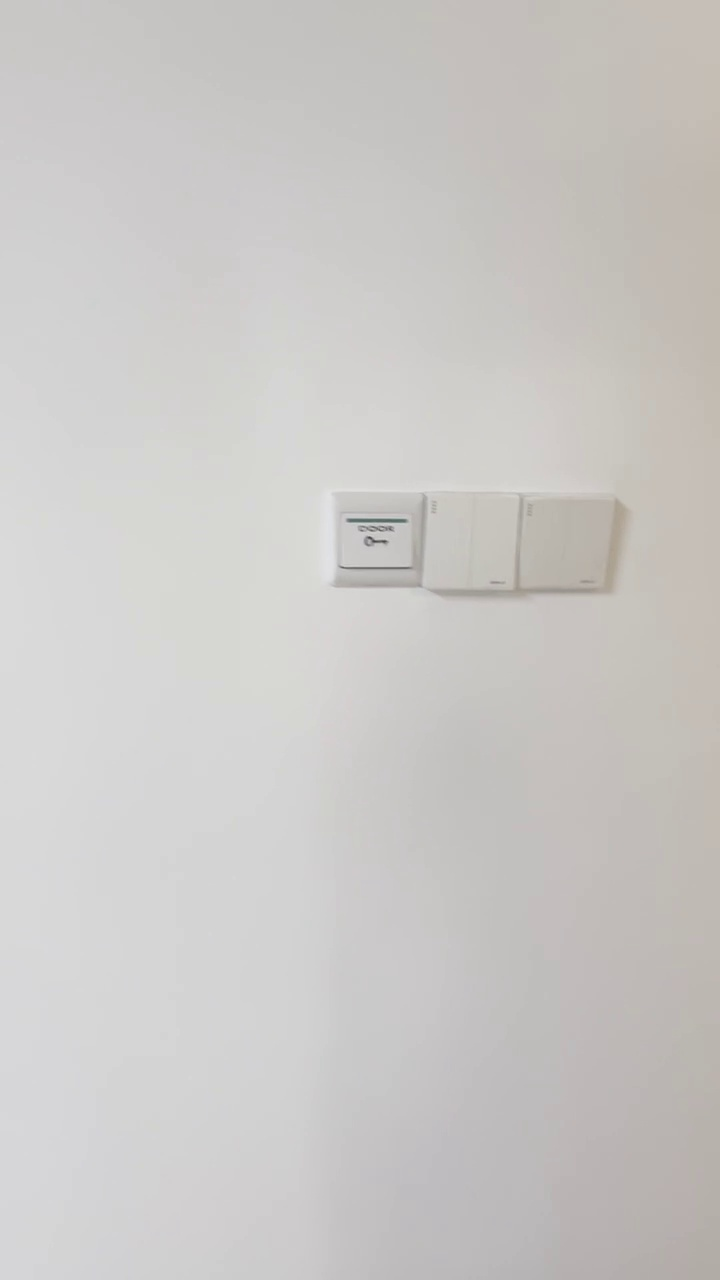button: (425, 488, 522, 593), (521, 491, 615, 597)
